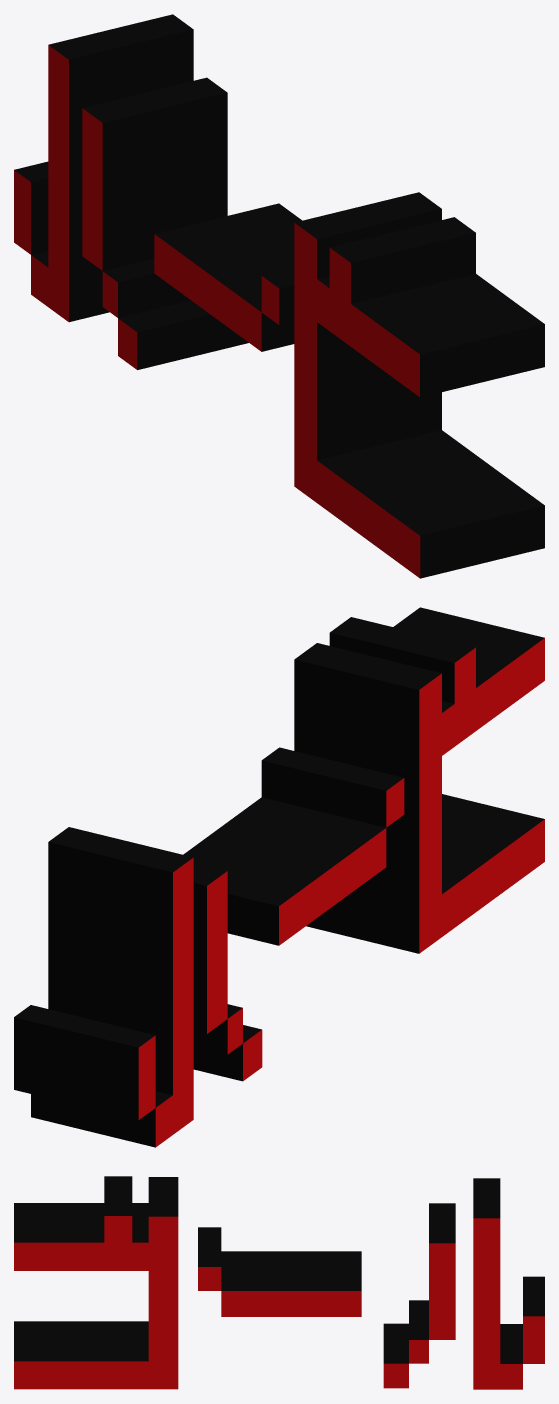
File: Goal.fbx
3 renders of one model, top to bottom at view 1: azimuth 30°, elevation 25°; view 2: azimuth 150°, elevation 25°; view 3: azimuth 270°, elevation 25°, orthographic. The views are drawn at different scales.
Visible parts, largest first — view 1: 平面.002; view 2: 平面.002; view 3: 平面.002.
Boxes of the visible parts, left/top/right/bottom form: 平面.002: left=14, top=14, right=544, bottom=578; 平面.002: left=14, top=607, right=544, bottom=1147; 平面.002: left=14, top=1176, right=544, bottom=1389.
Bounding box in the file's own units: 2.37 × 4.83 × 13.38.
